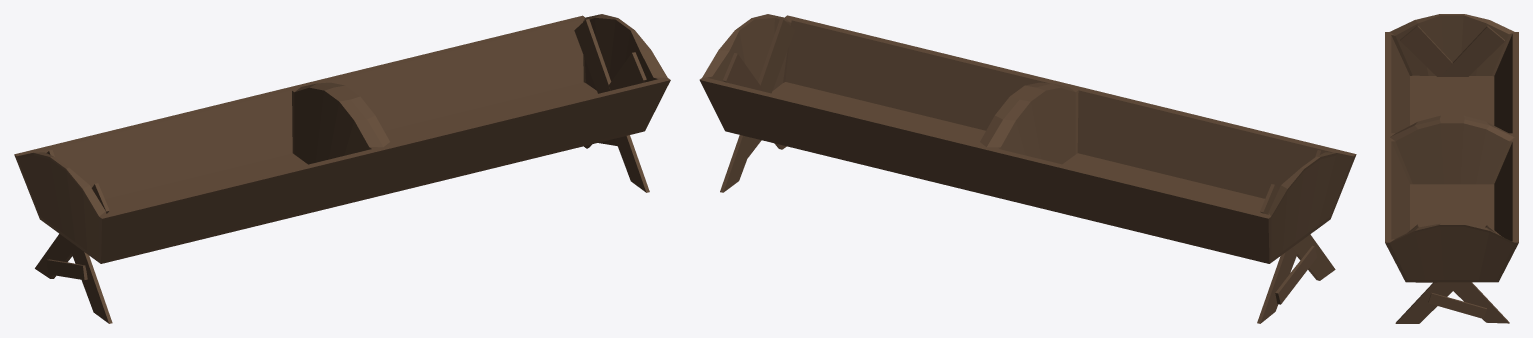
The model's file is trough.fbx.
3 renders of one model, left to right at view 1: azimuth 30°, elevation 25°; view 2: azimuth 150°, elevation 25°; view 3: azimuth 270°, elevation 25°, orthographic. The views are drawn at different scales.
Visible parts, largest first — view 1: Cube; view 2: Cube; view 3: Cube.
Part boxes in pixels (x1,y1,x2,y2): Cube: [14, 14, 670, 323]; Cube: [699, 14, 1356, 323]; Cube: [1385, 14, 1518, 323].
Size of the model in its own units: 186 by 42.88 by 49.89.
